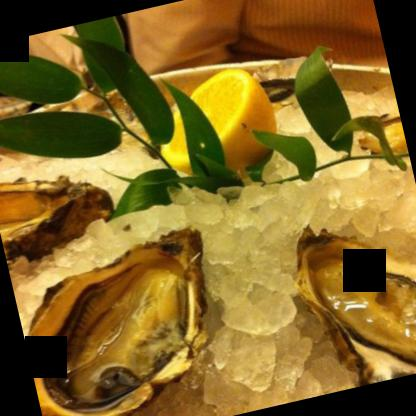oyster: (8, 218, 239, 415), (290, 203, 415, 394), (0, 158, 121, 271)
